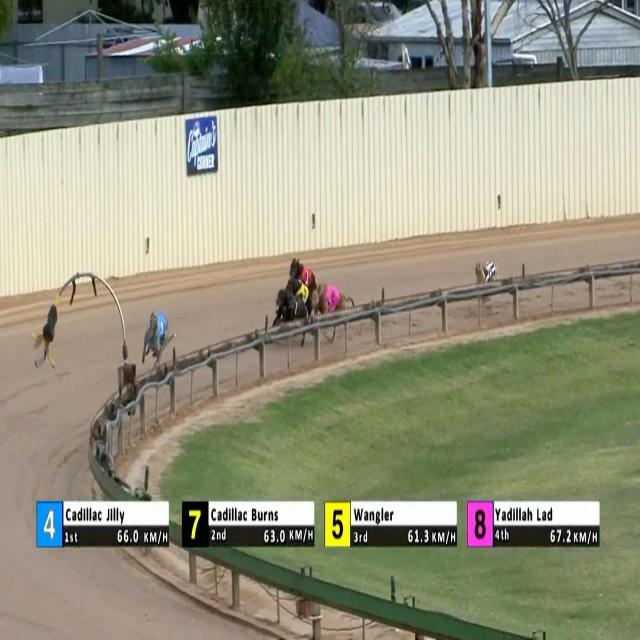dog_eight: (326, 285, 339, 312)
dog_five: (298, 281, 310, 305)
dog_four: (154, 315, 168, 346)
dog_one: (302, 265, 312, 293)
dog_seven: (290, 296, 302, 322)
dog_two: (485, 262, 497, 286)
rail: (92, 261, 639, 638)
